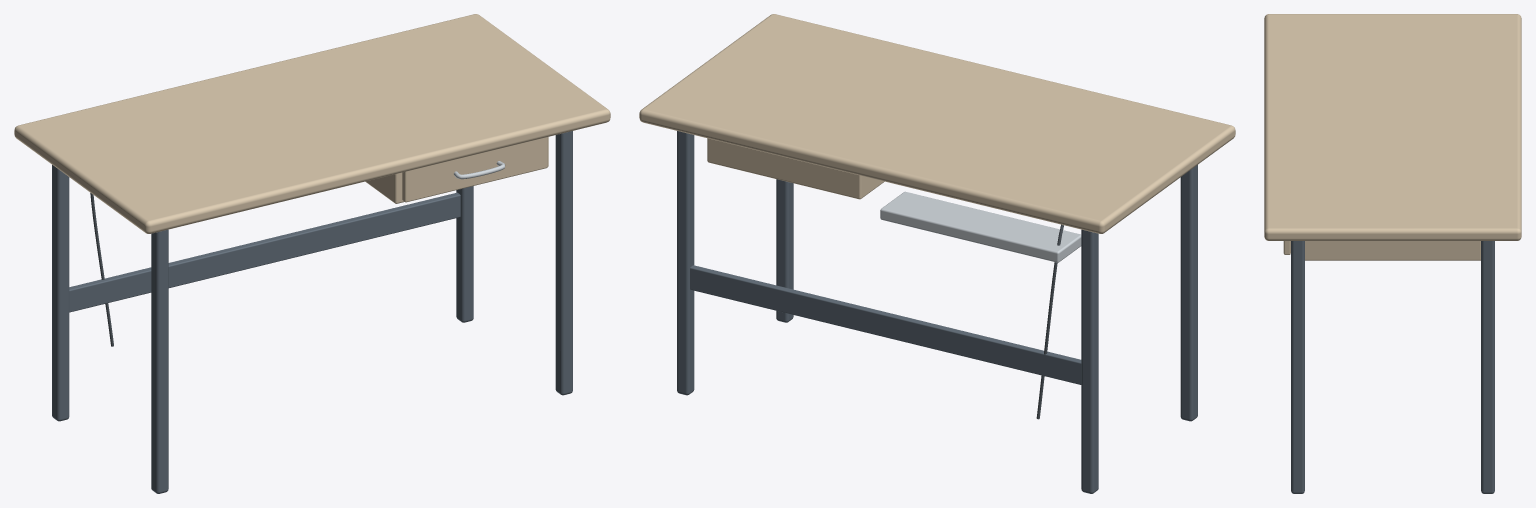
The model's file is writing-desk.glb.
3 renders of one model, left to right at view 1: azimuth 30°, elevation 25°; view 2: azimuth 150°, elevation 25°; view 3: azimuth 270°, elevation 25°, orthographic. The views are drawn at different scales.
Parts seen in each view (by area): view 1: writing-desk; view 2: writing-desk; view 3: writing-desk.
Part boxes in pixels (<box>): writing-desk: <box>14,14,610,493</box>; writing-desk: <box>639,14,1235,493</box>; writing-desk: <box>1264,14,1521,493</box>.
Bounding box in the file's own units: 1.3 × 0.77 × 0.65.
